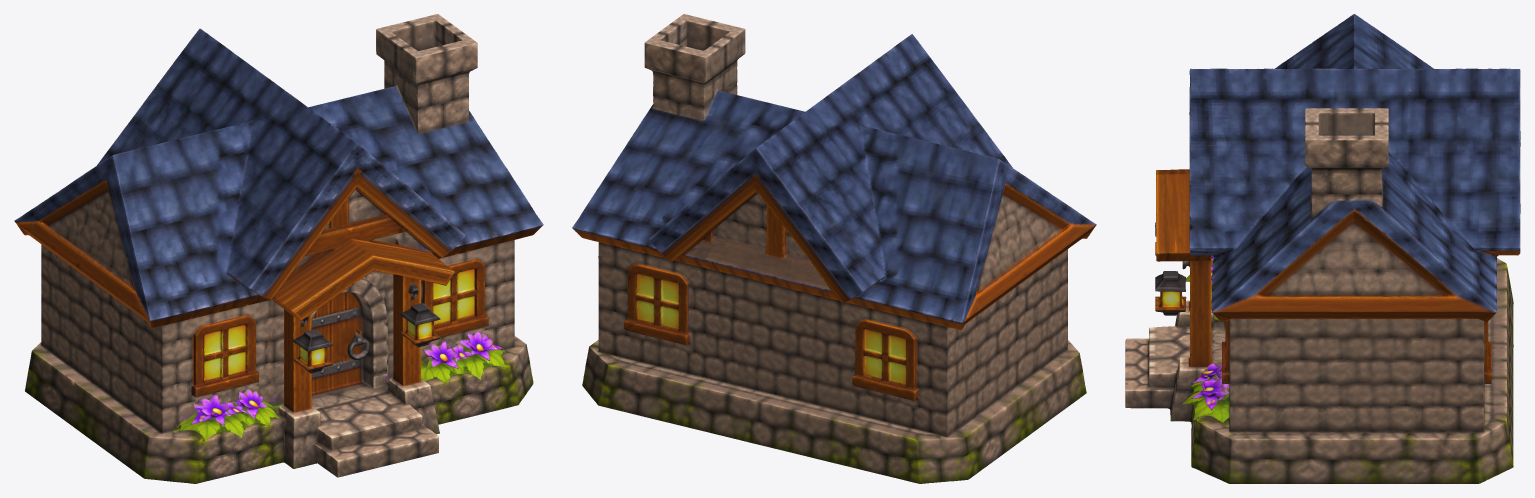
Rendered from casa3.glb.
3 renders of one model, left to right at view 1: azimuth 30°, elevation 25°; view 2: azimuth 150°, elevation 25°; view 3: azimuth 270°, elevation 25°, orthographic. The views are drawn at different scales.
Size of the model in its own units: 1.89 by 1.46 by 1.57.
1 material, 1 textured.
